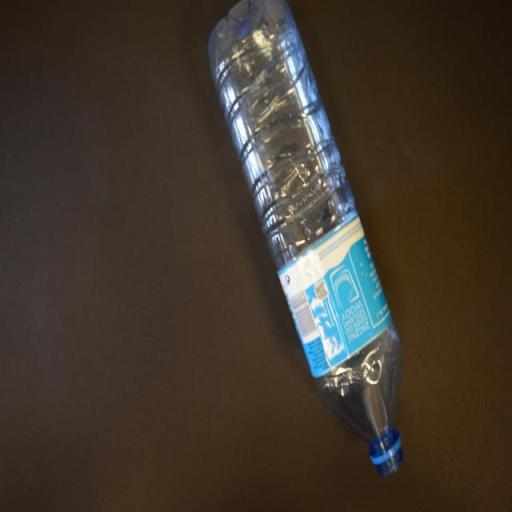plastic: (206, 0, 404, 478)
